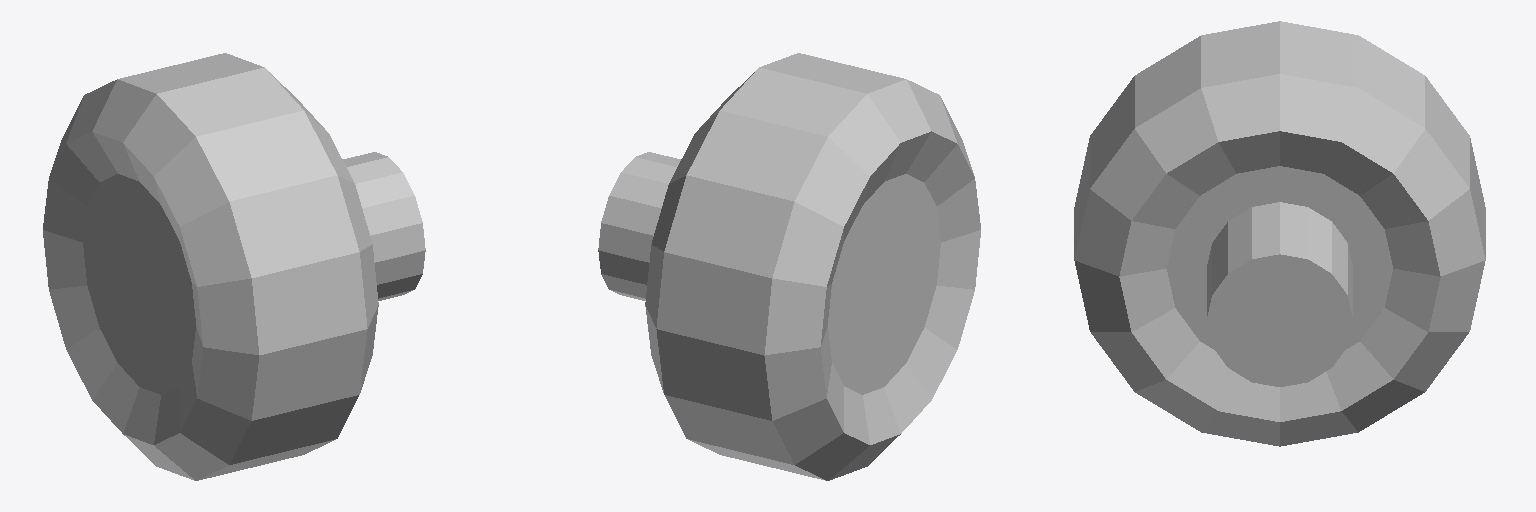
File: wheel.obj
3 renders of one model, left to right at view 1: azimuth 30°, elevation 25°; view 2: azimuth 150°, elevation 25°; view 3: azimuth 270°, elevation 25°, orthographic.
Parts seen in each view (by area): view 1: Cylinder.001_Cylinder.003; view 2: Cylinder.001_Cylinder.003; view 3: Cylinder.001_Cylinder.003.
Boxes of the visible parts, <box> form: Cylinder.001_Cylinder.003: <box>43,53,425,480</box>; Cylinder.001_Cylinder.003: <box>598,53,980,480</box>; Cylinder.001_Cylinder.003: <box>1074,21,1485,446</box>.
Bounding box in the file's own units: 0.7011 × 0.9392 × 0.9392.